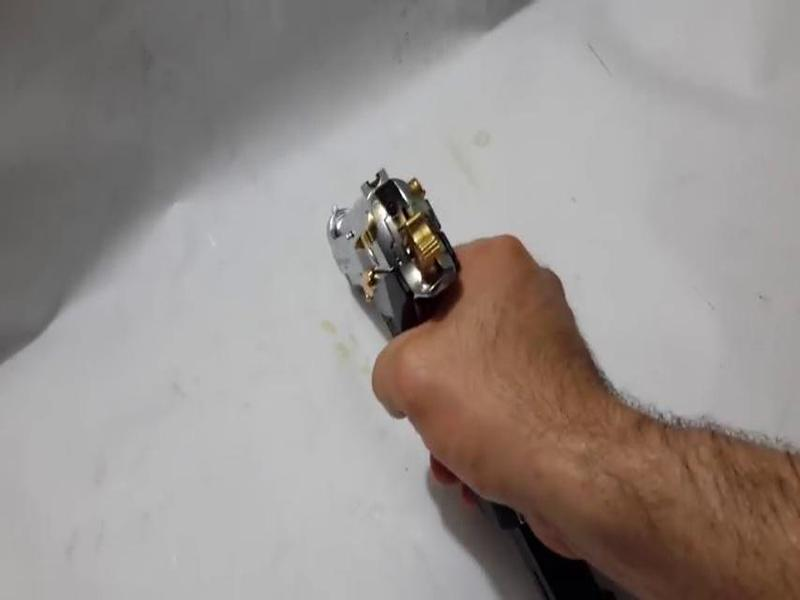Pistola: (277, 183, 632, 583)
